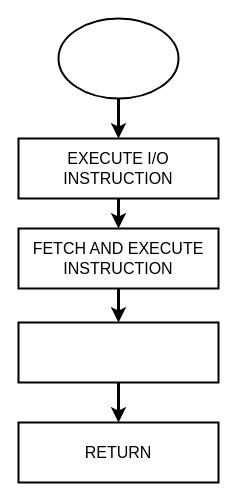
The diagram is 236 pixels wide and 500 high, and some of its shapes have lost their labels. Each missing label, with the centre of its shape:
RESTORE PROCESSOR STATUS: the point at 118,352
START: the point at 118,58
